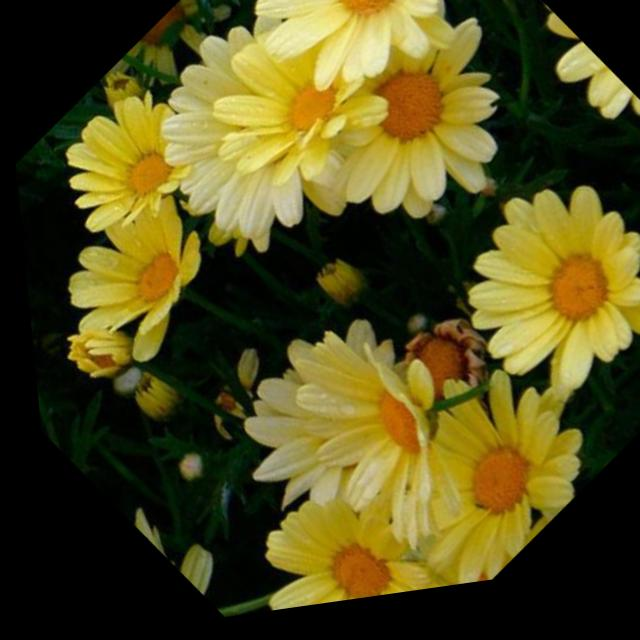Flower: (191, 286, 493, 604), (400, 145, 640, 455), (336, 346, 604, 606), (180, 434, 461, 624), (15, 181, 230, 396), (28, 64, 226, 266)
